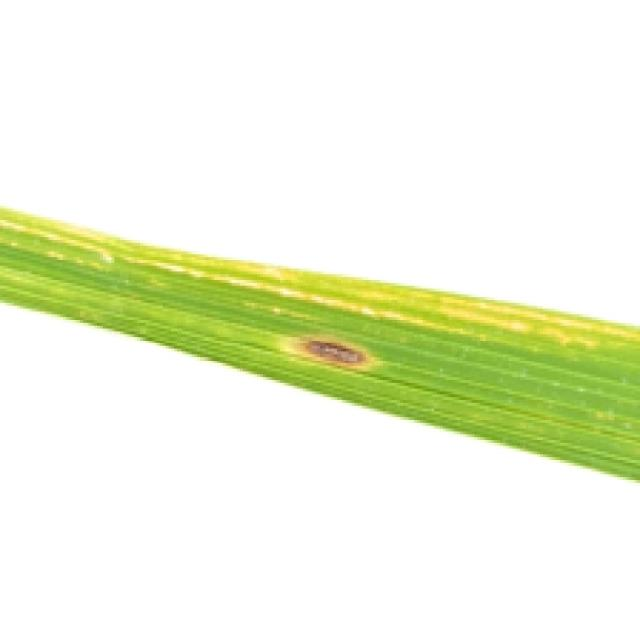Rice___Rice_Blast: (0, 203, 637, 488)
